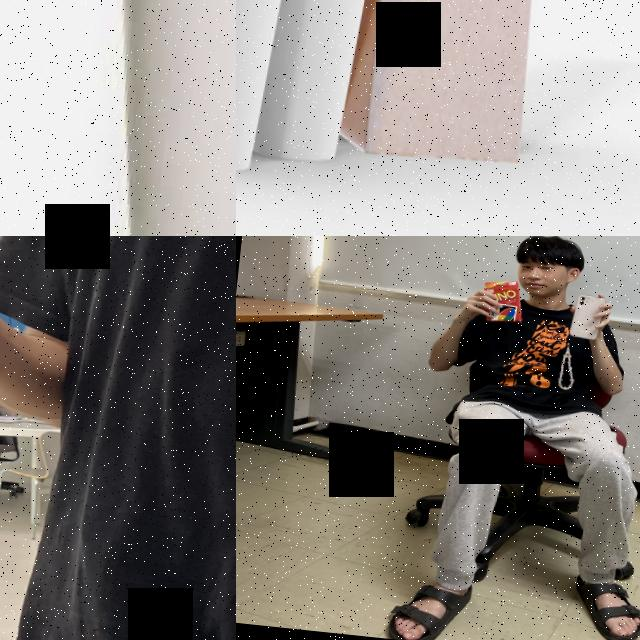cup: (33, 0, 236, 236), (236, 0, 393, 178), (236, 0, 298, 184)
